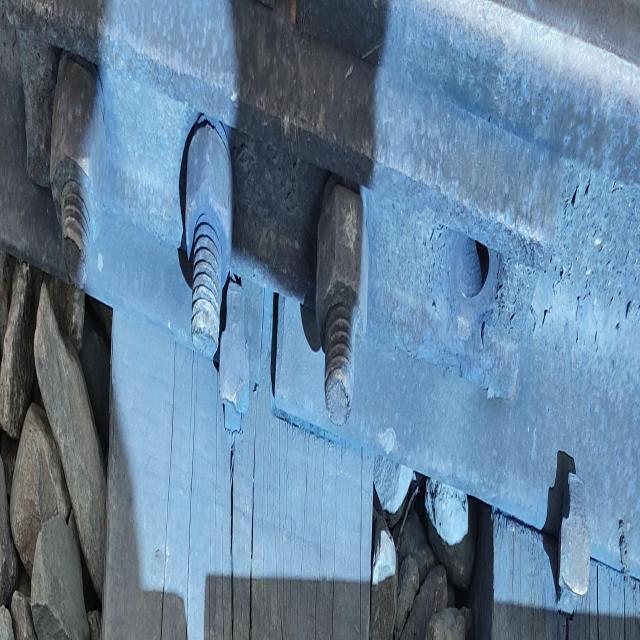Defective Joint: (19, 19, 561, 442)
